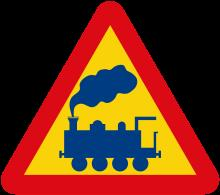Barrier Ahead: (10, 10, 211, 188)
